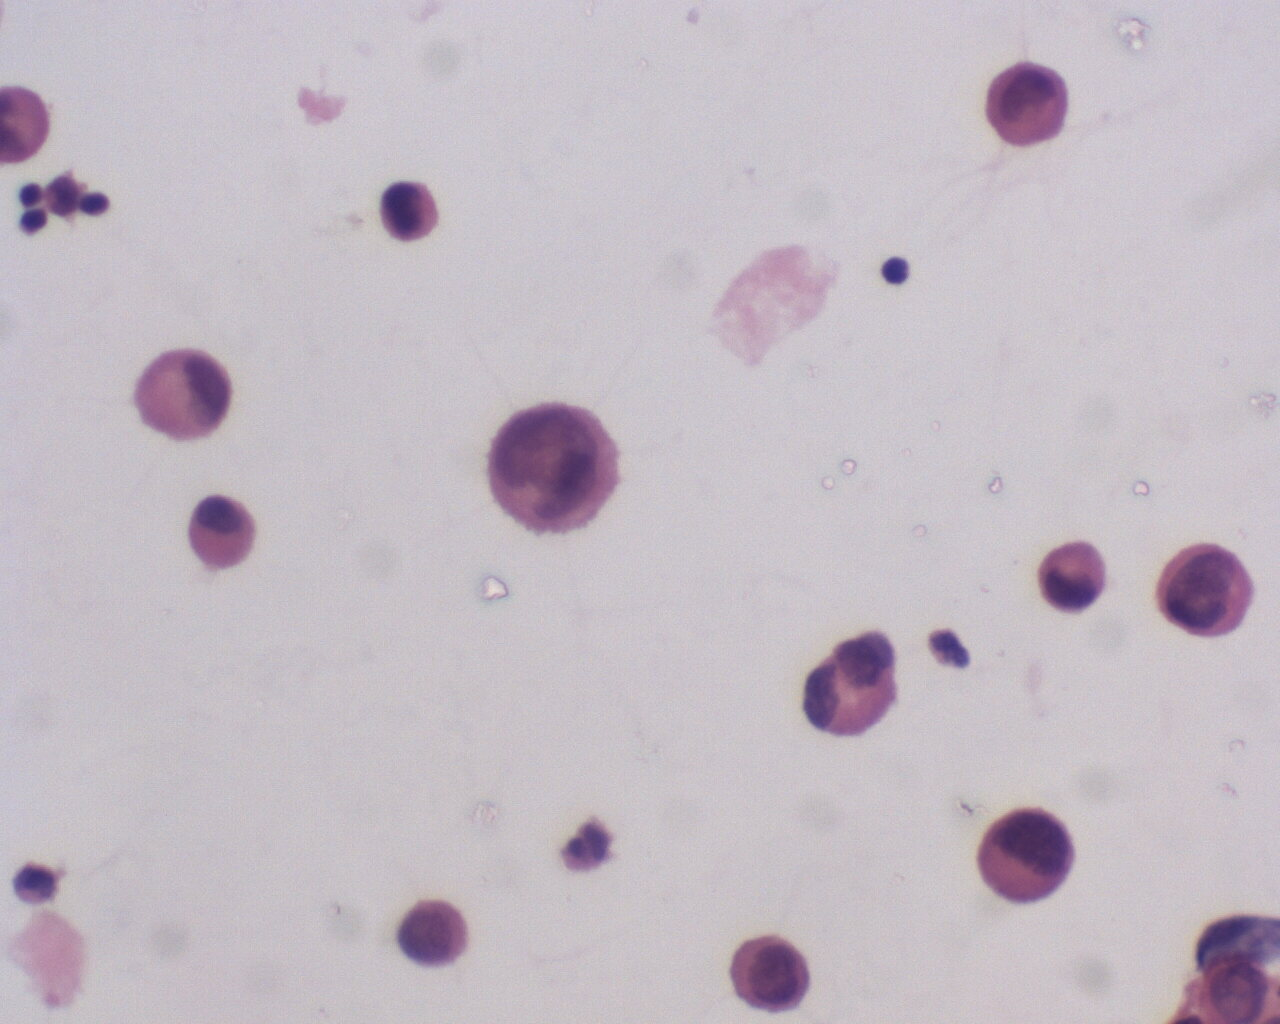ab: (486, 395, 629, 538), (1155, 538, 1251, 639), (980, 807, 1074, 909), (729, 932, 815, 1016), (391, 897, 470, 969), (374, 179, 447, 245)
histo: (129, 342, 236, 449)
lymph: (875, 252, 917, 298)
meso: (179, 492, 263, 574)
